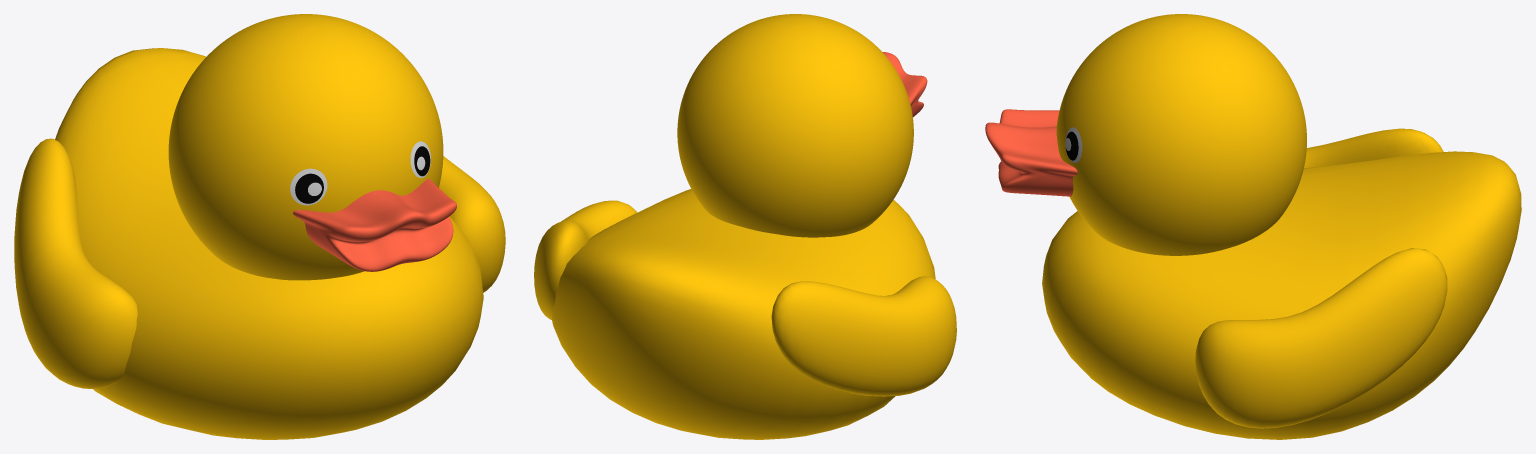
Rendered from duck3.glb.
3 renders of one model, left to right at view 1: azimuth 30°, elevation 25°; view 2: azimuth 150°, elevation 25°; view 3: azimuth 270°, elevation 25°, orthographic. The views are drawn at different scales.
Parts seen in each view (by area): view 1: Cube, 球, 立方体, 立方体.001, 円.001, 円; view 2: Cube, 球, 立方体, 立方体.001; view 3: Cube, 球, 立方体, 立方体.001.
Part boxes in pixels (x1,y1,x2,y2): Cube: [55, 48, 483, 439]; 球: [168, 14, 443, 280]; 立方体: [14, 138, 505, 388]; 立方体.001: [293, 178, 456, 271]; 円.001: [295, 146, 430, 203]; 円: [290, 141, 430, 205]; Cube: [552, 189, 935, 439]; 球: [677, 14, 913, 237]; 立方体: [534, 200, 956, 396]; 立方体.001: [882, 52, 927, 117]; Cube: [1042, 151, 1521, 439]; 球: [1056, 14, 1306, 255]; 立方体: [1195, 128, 1447, 428]; 立方体.001: [985, 109, 1077, 196].
Size of the model in its own units: 2.03 by 1.78 by 2.29.
